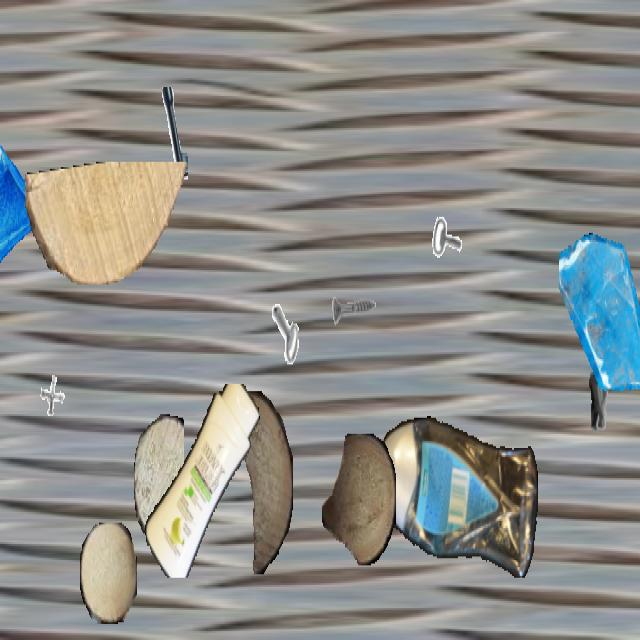glass: (559, 231, 640, 398), (0, 137, 48, 304)
metal: (130, 87, 188, 190), (271, 270, 325, 366), (574, 359, 624, 448), (330, 270, 376, 352), (34, 361, 74, 432), (432, 192, 472, 263)
plastic: (377, 414, 537, 585), (142, 384, 264, 576)
wood: (25, 162, 191, 282), (221, 391, 293, 573), (322, 434, 396, 565), (134, 414, 184, 542), (80, 523, 136, 622)
